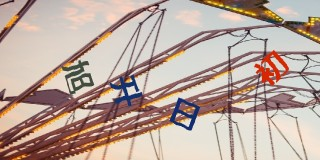初: (255, 49, 289, 86)
升: (110, 74, 143, 107)
日: (170, 97, 200, 131)
旭: (62, 58, 94, 95)
